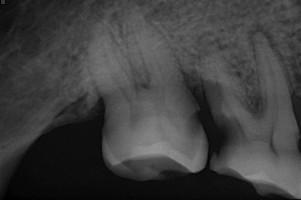Furcation Involvement: (249, 23, 278, 58), (198, 31, 221, 47)
